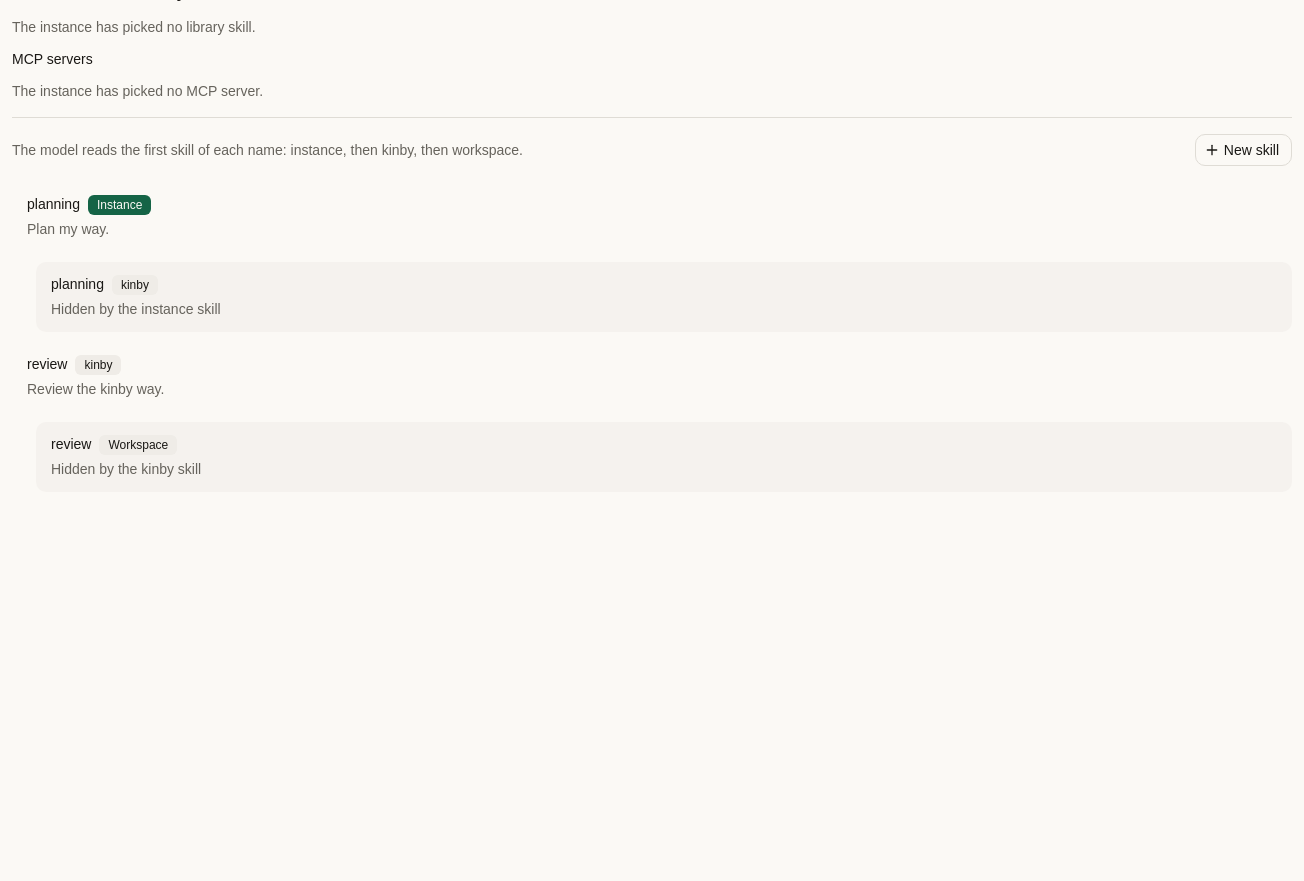
Test: SkillsSection › removes a customization and shows the skill it hid
The image size is (1304, 881).
Click the button with aria-label "planning, instance skill": (53, 204) [12,182,1292,252]
(page scrolled)
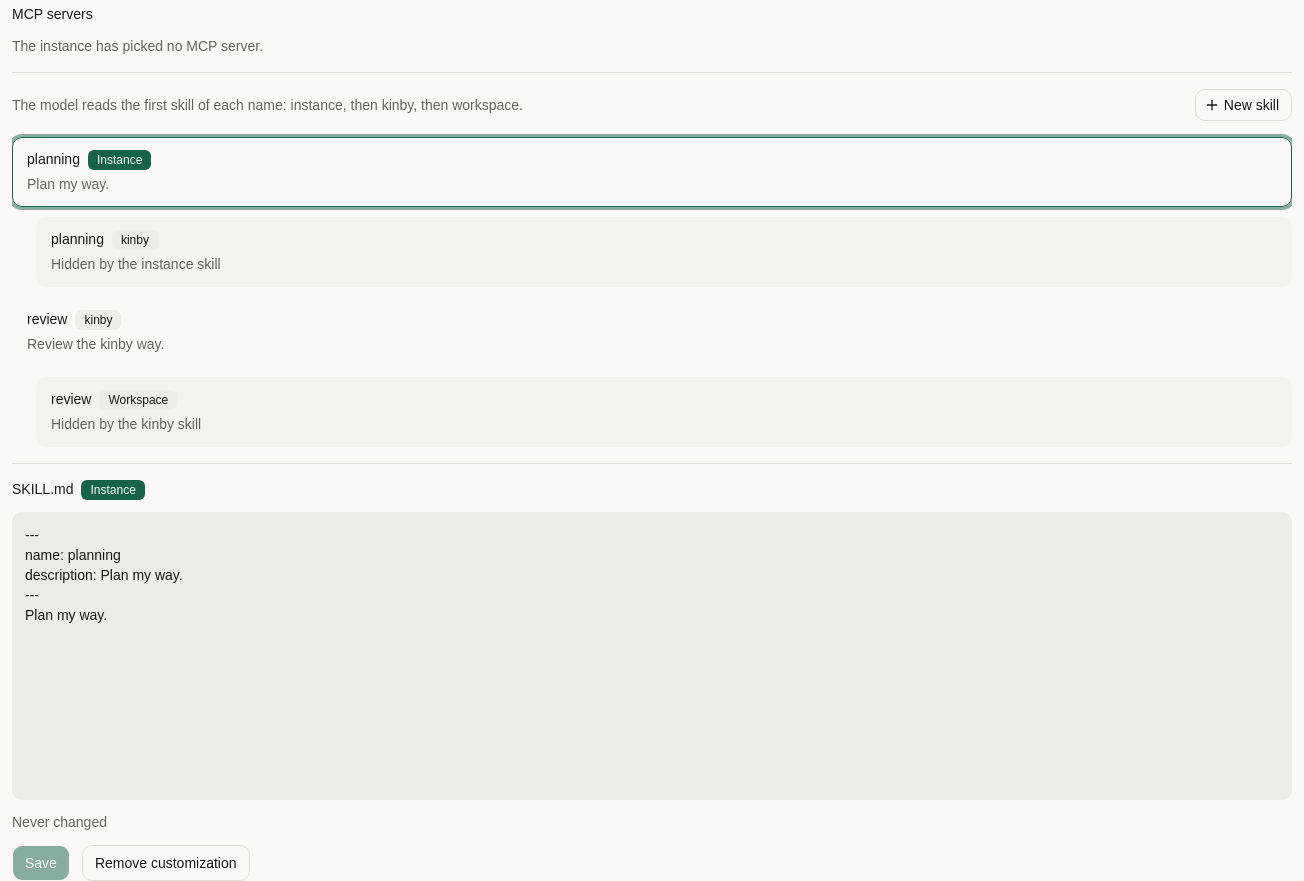
Click the button "Remove customization": (166, 863) [82,845,250,880]
(page scrolled)
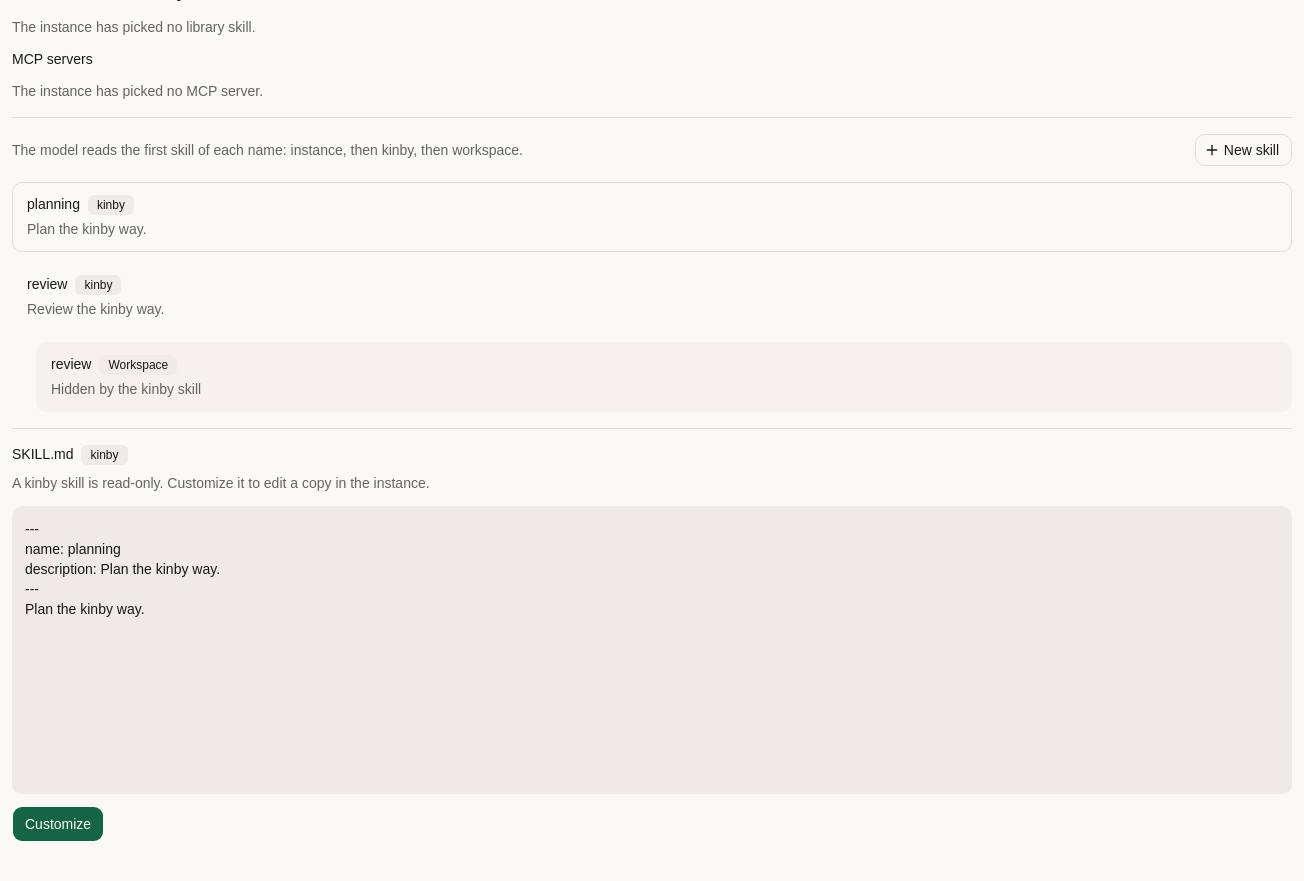
Now the text box showing "Plan the kinby way." is shown, box [12,506,1292,794]
